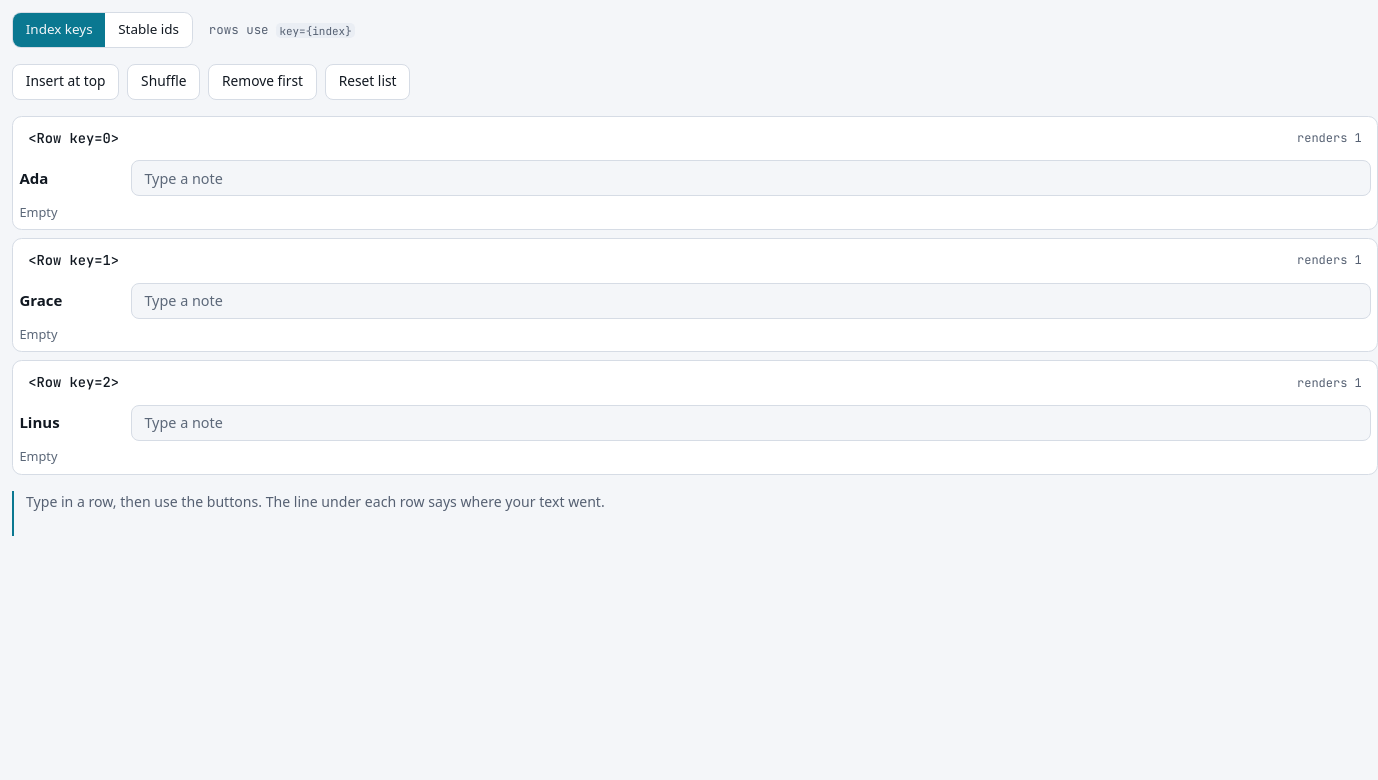
key-chaos lab › with stable ids, the text moves down with its item
Click the button "Stable ids". click: click(149, 30)
box: [105,13,192,47]
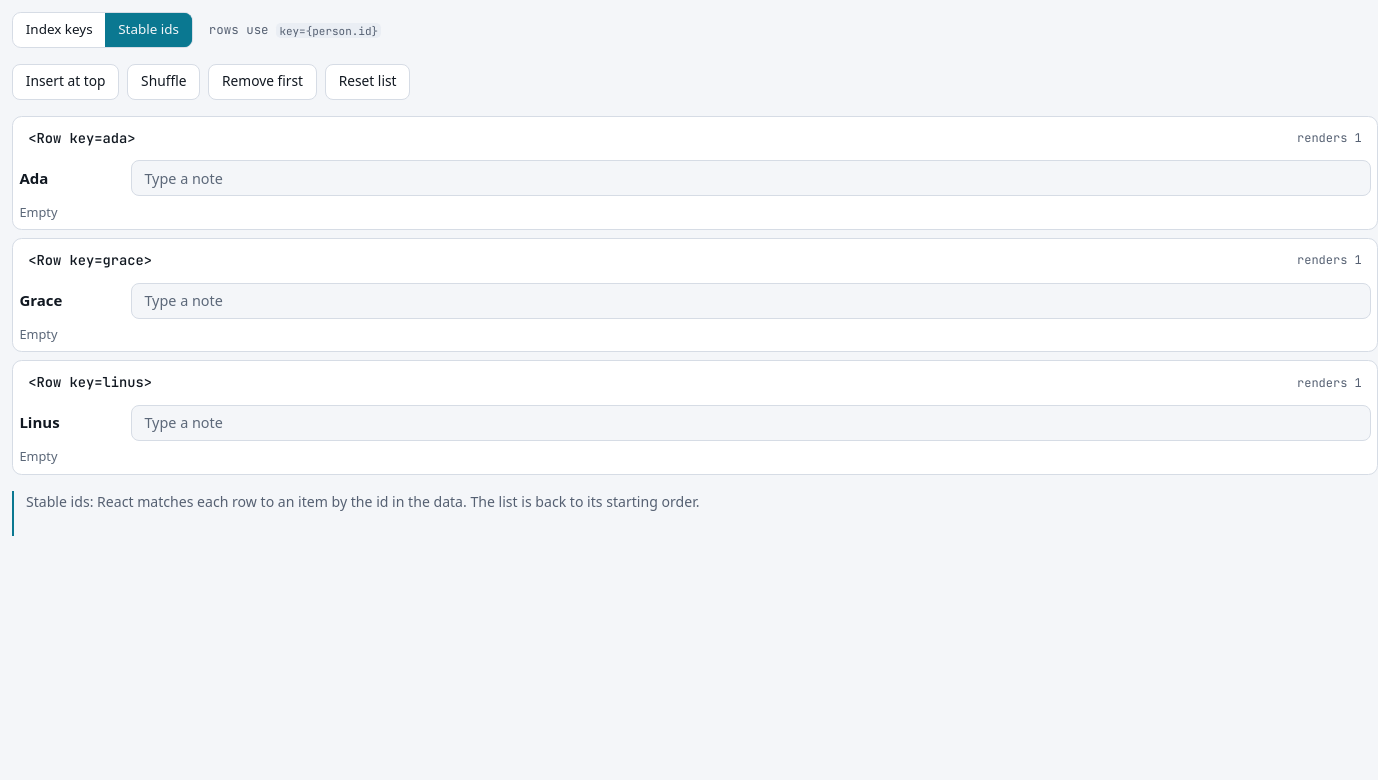
Type "alpha" into the field with placeholder "Type a note" below "<Row key=ada>". click: (751, 178)
box: [131,160,1371,196]
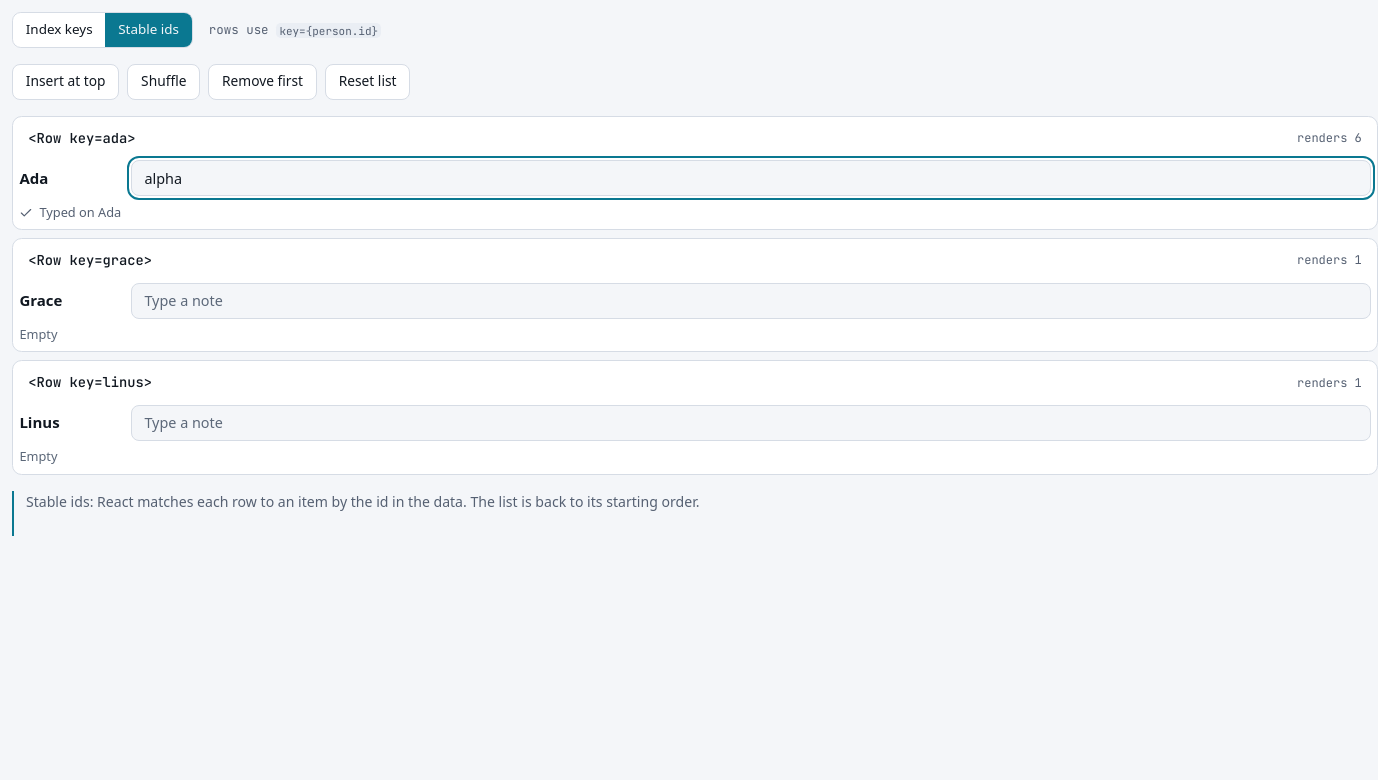
Click the button "Insert at top". click: click(66, 82)
box: [12,64,119,100]
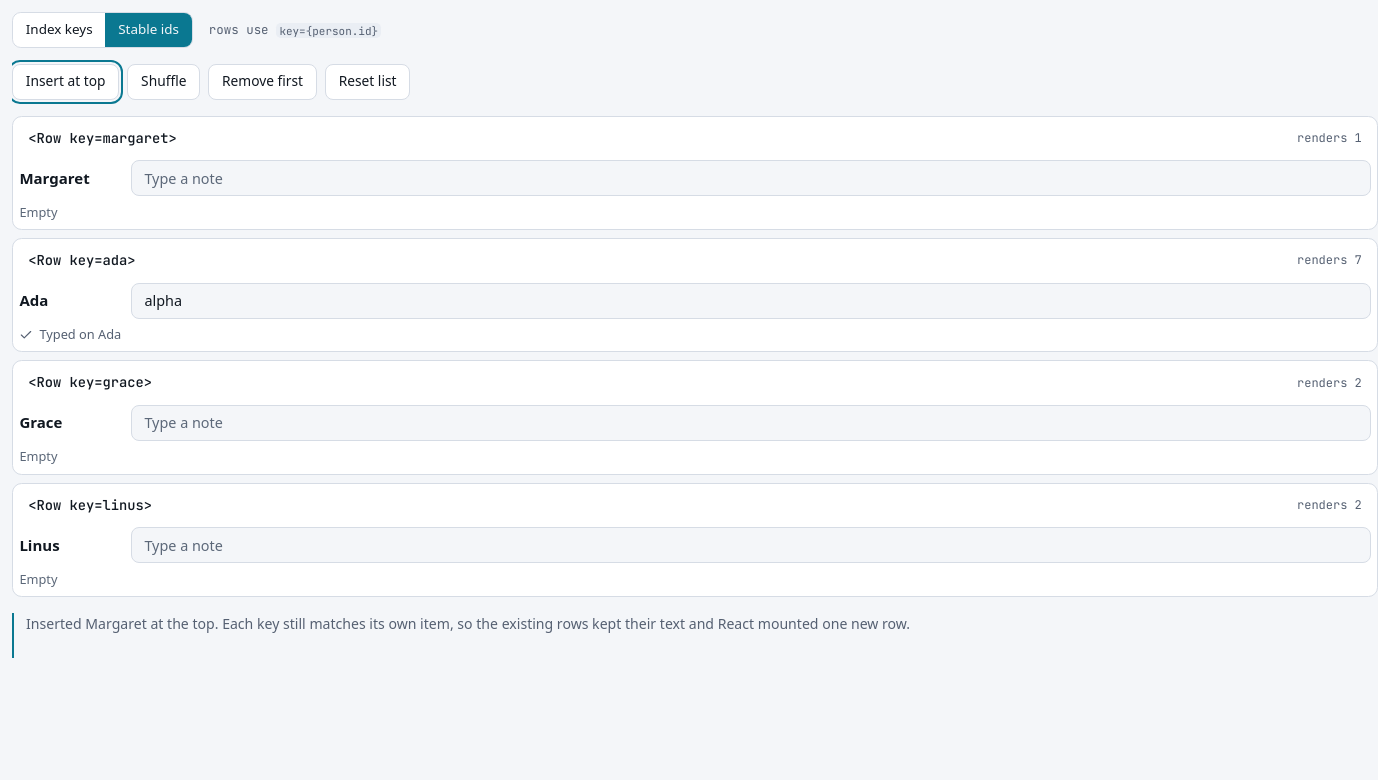
Expected: the list item "<Row key=ada> renders 7 Ada Typed on Ada" is shown, [12,238,1377,352]
Expected: the field with placeholder "Type a note" below "<Row key=margaret>" is empty, [131,160,1371,196]
